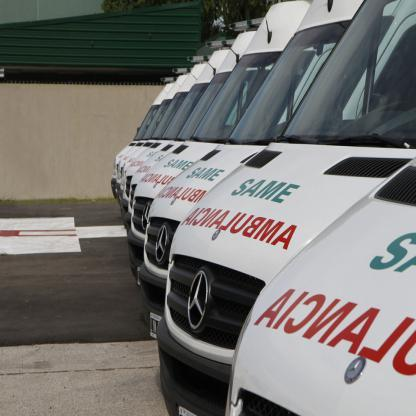Ambulance - v1 Ambulance last generate: (110, 0, 415, 415)
